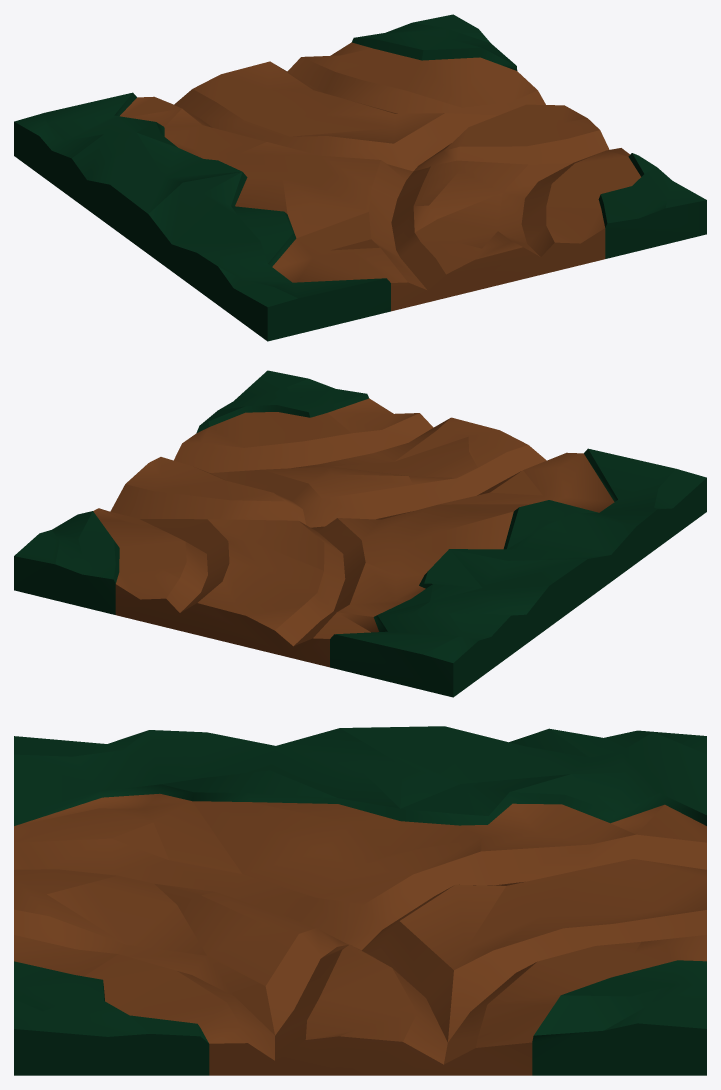
Rendered from Ground_Road_Crossroads_R_1.fbx.
The picture shows the model from 3 angles, top to bottom: view 1: azimuth 30°, elevation 25°; view 2: azimuth 150°, elevation 25°; view 3: azimuth 270°, elevation 25°; orthographic projection. The views are drawn at different scales.
Visible parts, largest first — view 1: Ground_Road_Crossroads_R_1; view 2: Ground_Road_Crossroads_R_1; view 3: Ground_Road_Crossroads_R_1.
Boxes of the visible parts, box(x1,y1,x2,y2) form: Ground_Road_Crossroads_R_1: box(14, 14, 706, 341); Ground_Road_Crossroads_R_1: box(14, 370, 706, 697); Ground_Road_Crossroads_R_1: box(14, 726, 706, 1075).
Size of the model in its own units: 147 by 14.83 by 147.
